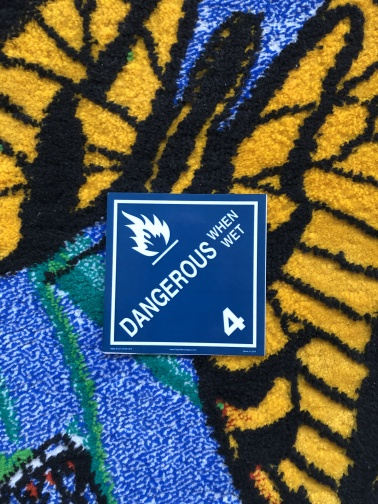DangerousWhenWet: (105, 191, 260, 354)
